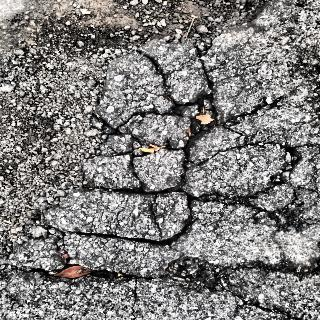alligator-crack: (98, 79, 286, 264)
